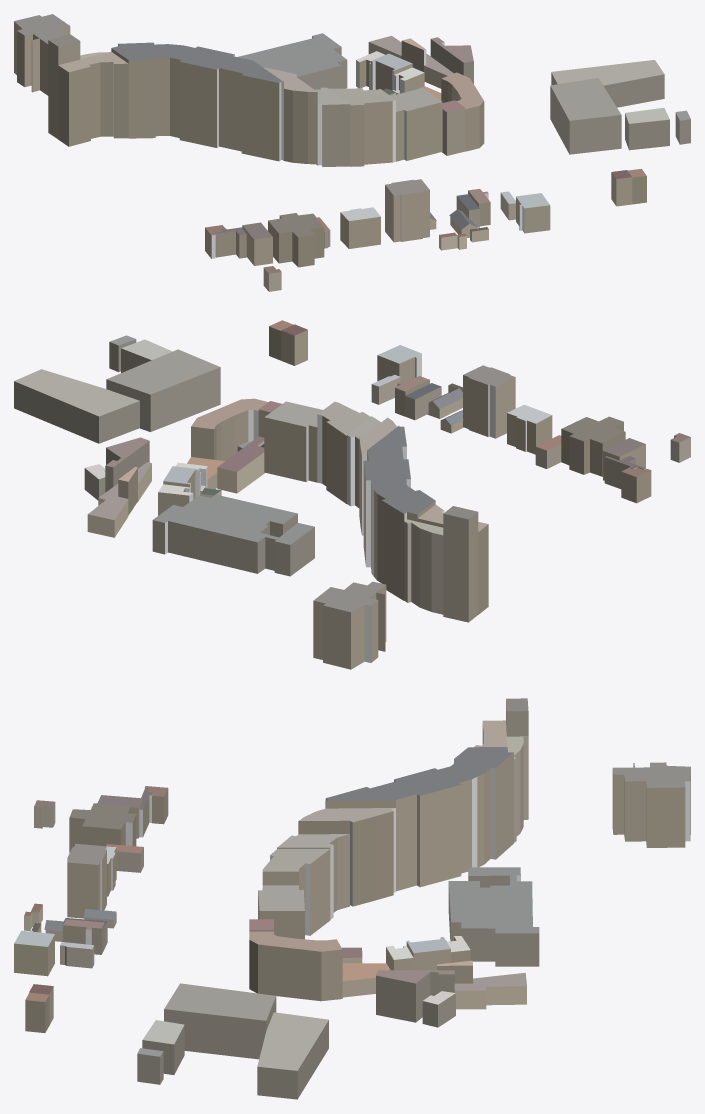
3 renders of one model, top to bottom at view 1: azimuth 30°, elevation 25°; view 2: azimuth 150°, elevation 25°; view 3: azimuth 270°, elevation 25°, orthographic. The views are drawn at different scales.
Visible parts, largest first — view 1: tuile; view 2: tuile; view 3: tuile.
Boxes of the visible parts, left/top/right/bottom form: tuile: left=14, top=14, right=690, bottom=291; tuile: left=14, top=320, right=690, bottom=669; tuile: left=14, top=698, right=690, bottom=1099.
Size of the model in its own units: 243 by 45.9 by 240.
